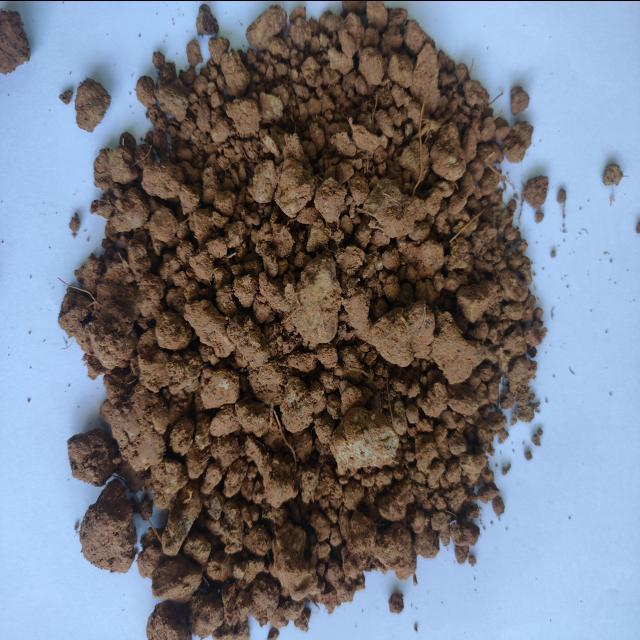soil: (146, 31, 477, 578)
